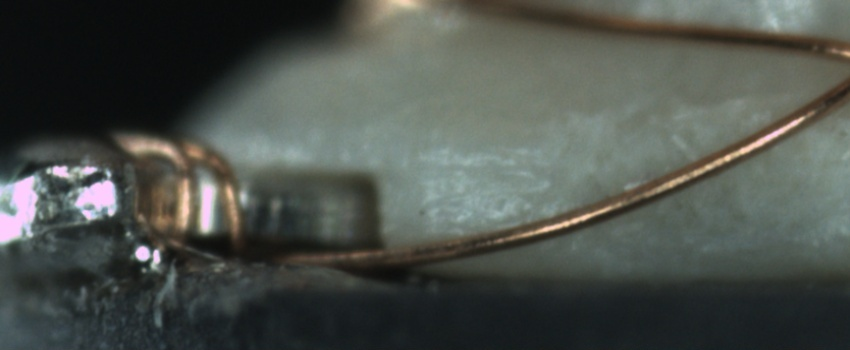DL: (410, 134, 551, 198)
TE: (110, 125, 256, 262)
